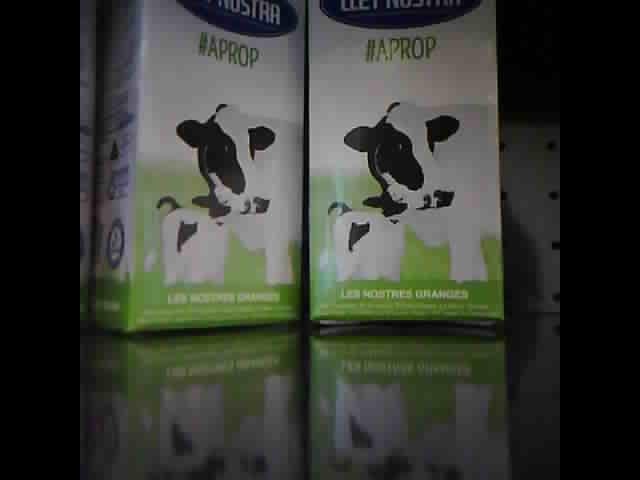leche: (93, 2, 305, 334), (310, 3, 498, 324)
